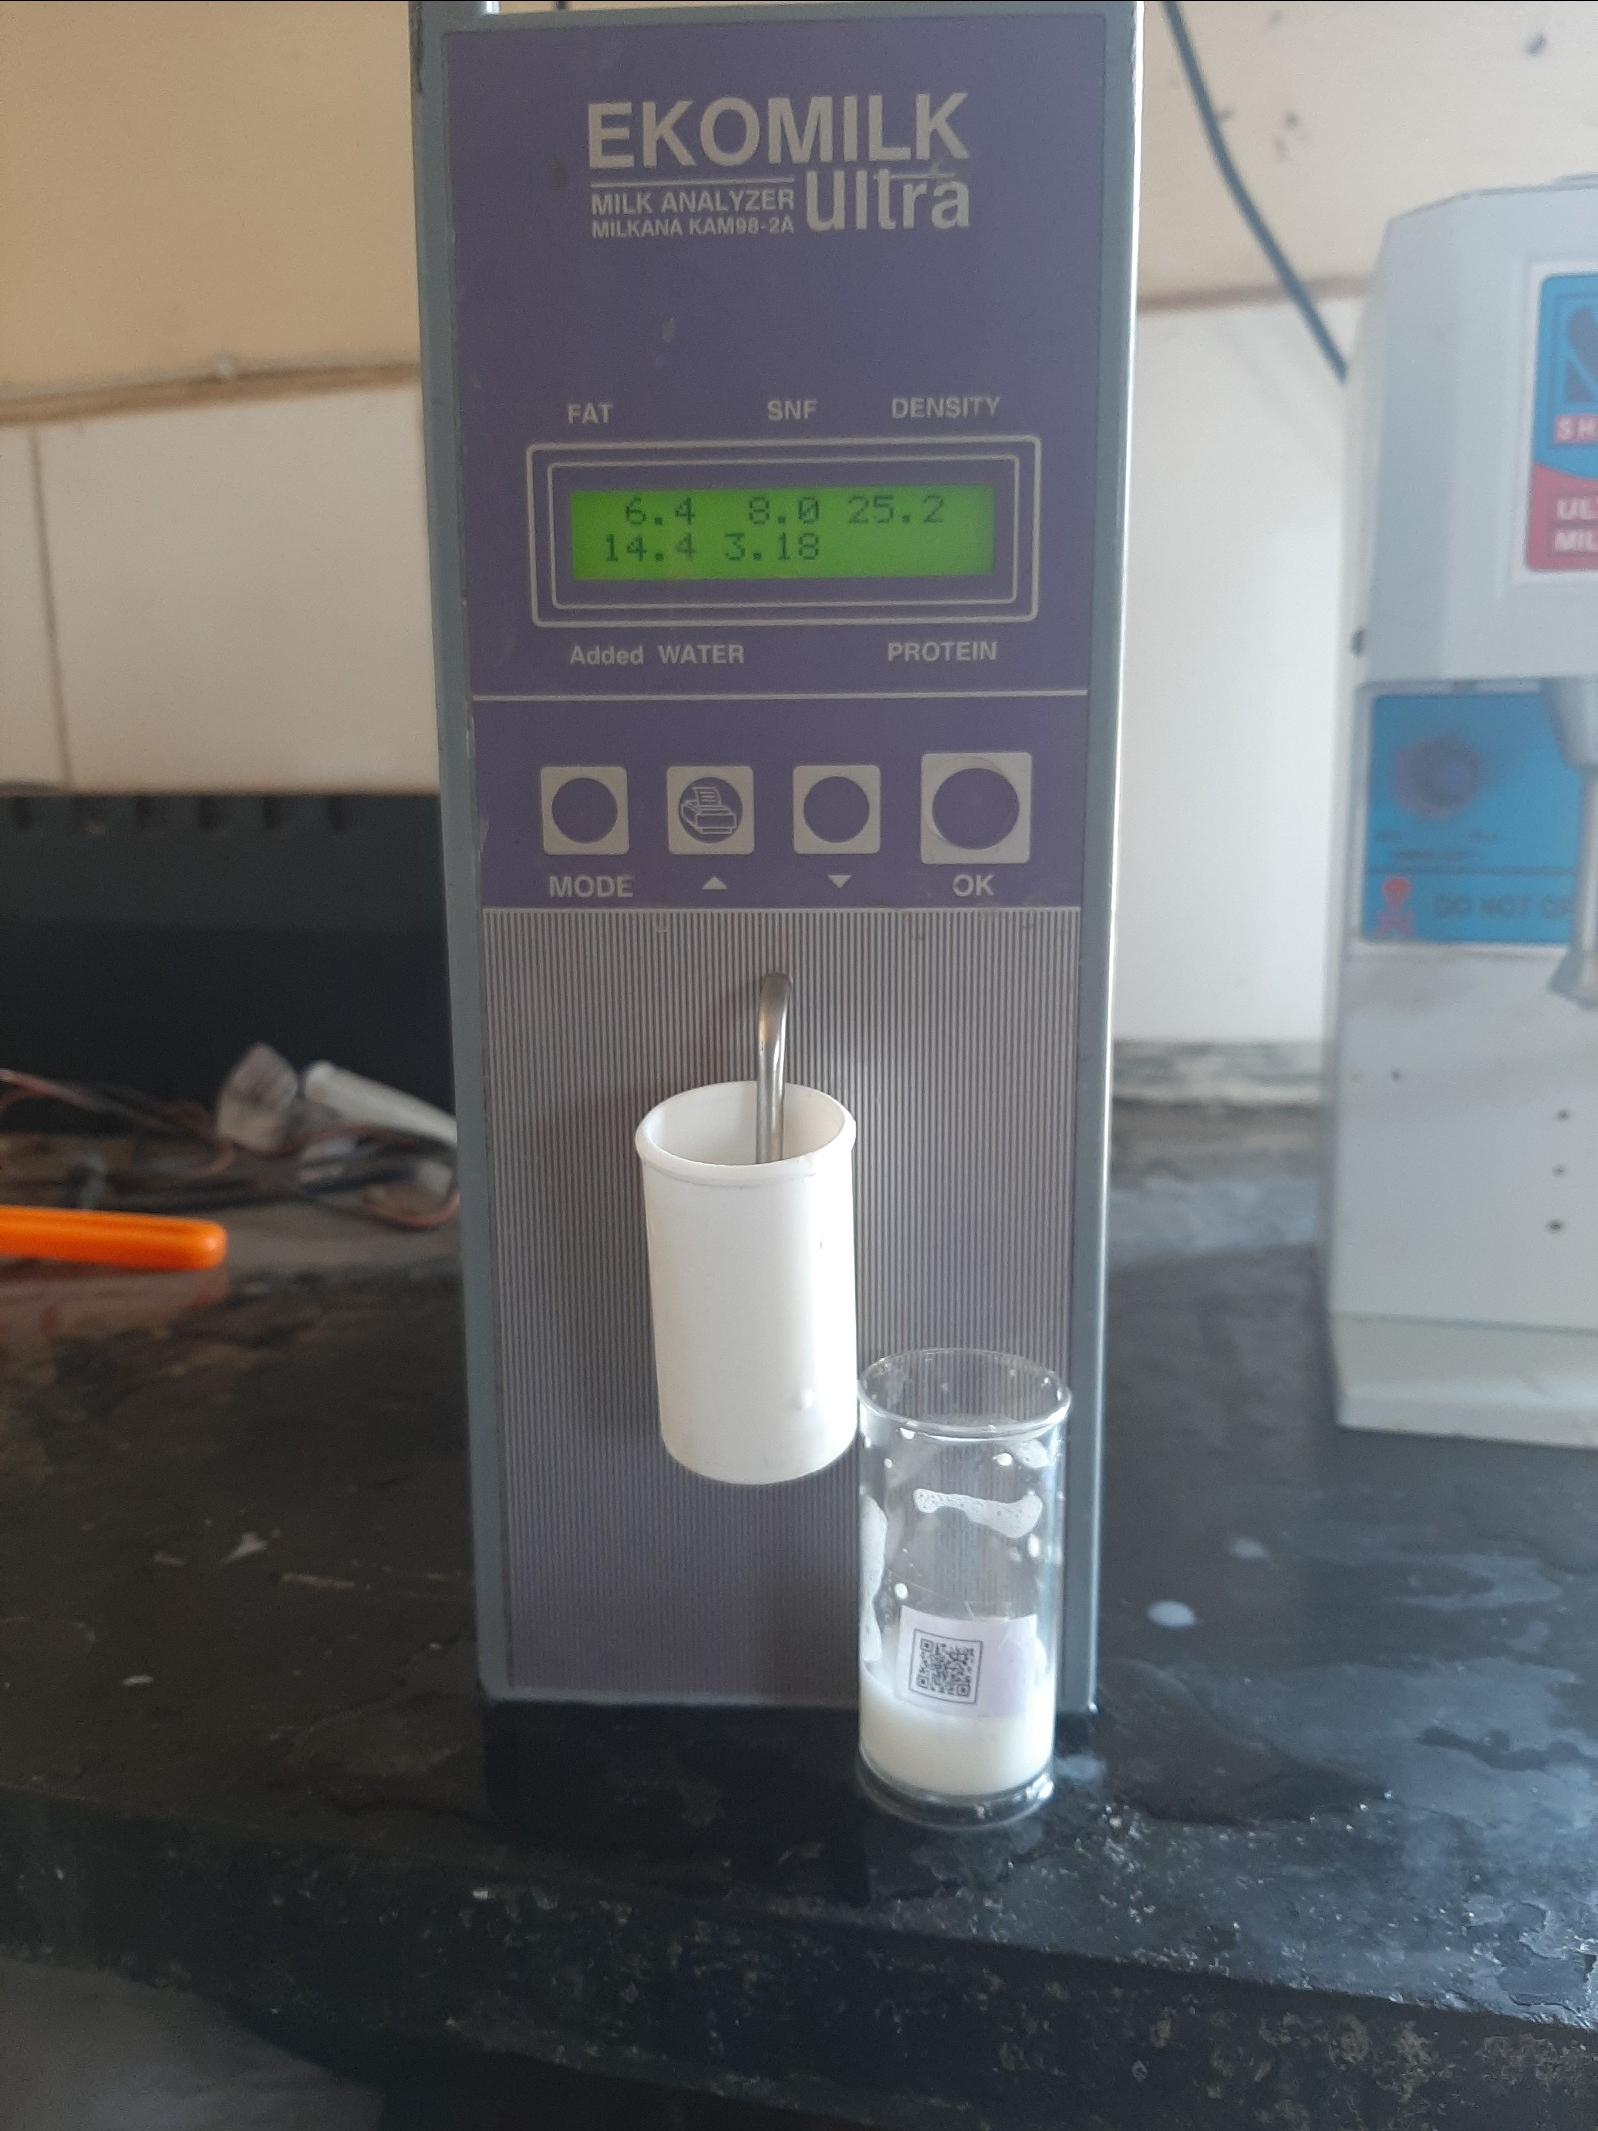lcd: (551, 468, 1039, 602)
qr: (880, 1601, 987, 1700)
